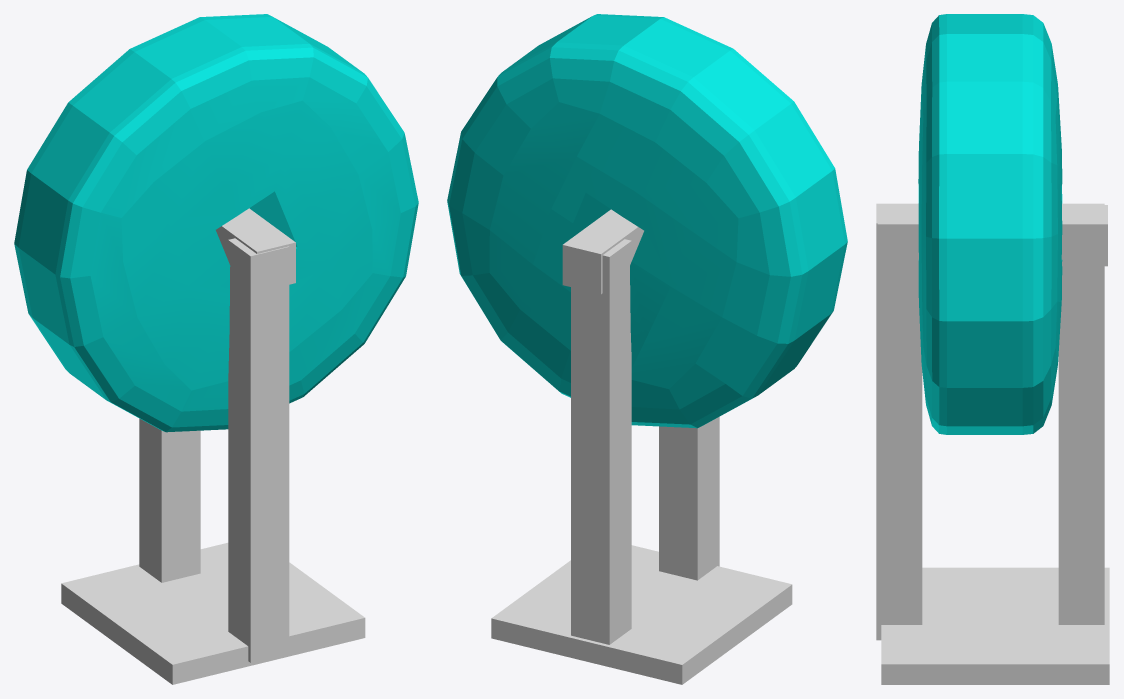
Rendered from точило крутится.fbx.
The picture shows the model from 3 angles, left to right: view 1: azimuth 30°, elevation 25°; view 2: azimuth 150°, elevation 25°; view 3: azimuth 270°, elevation 25°; orthographic projection. The views are drawn at different scales.
Parts seen in each view (by area): view 1: Куб.001, Куб.002, Cube.001, Куб, Куб.003; view 2: Куб.001, Куб, Cube.001, Куб.002, Куб.003; view 3: Куб.001, Cube.001, Куб.002, Куб, Куб.003.
Part boxes in pixels (bbox=[...]): Куб.001: bbox=[14, 14, 418, 432]; Куб.002: bbox=[228, 238, 289, 662]; Cube.001: bbox=[61, 542, 365, 684]; Куб: bbox=[139, 418, 200, 582]; Куб.003: bbox=[216, 208, 295, 284]; Куб.001: bbox=[447, 14, 847, 428]; Куб: bbox=[571, 239, 631, 644]; Cube.001: bbox=[491, 545, 792, 684]; Куб.002: bbox=[659, 417, 719, 580]; Куб.003: bbox=[562, 209, 643, 294]; Куб.001: bbox=[918, 14, 1062, 434]; Cube.001: bbox=[881, 567, 1109, 684]; Куб.002: bbox=[876, 203, 922, 640]; Куб: bbox=[1058, 203, 1104, 624]; Куб.003: bbox=[877, 205, 1107, 266].
Size of the model in its own units: 186 by 290 by 101.
